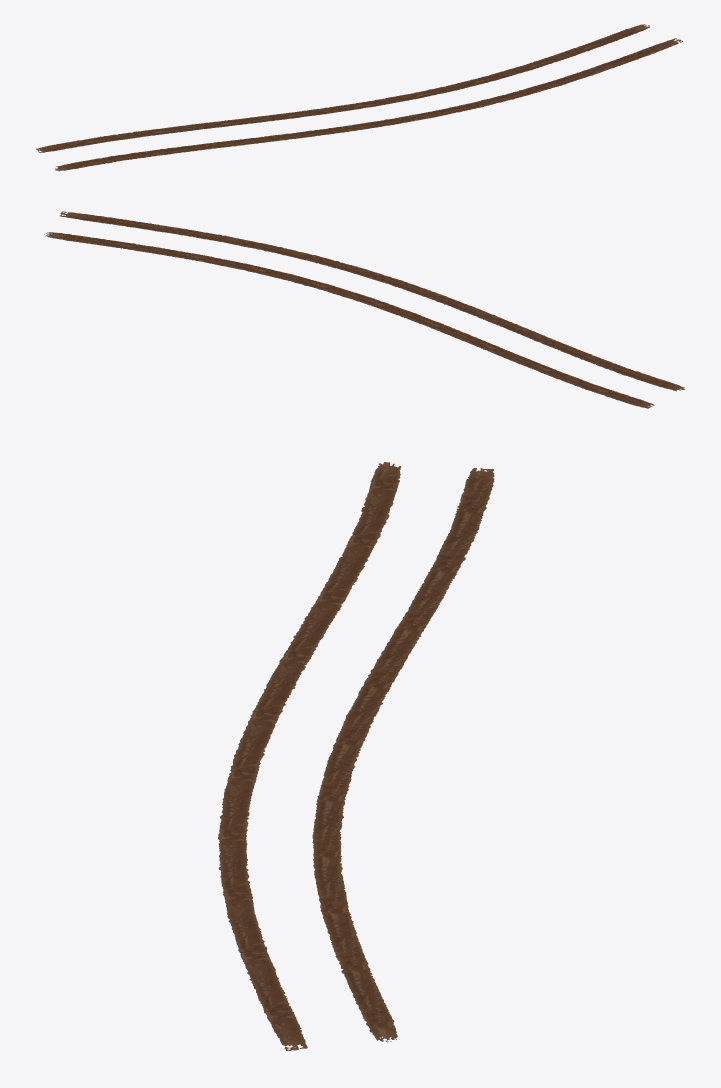
The model's file is Tracks.gltf.
3 renders of one model, top to bottom at view 1: azimuth 30°, elevation 25°; view 2: azimuth 150°, elevation 25°; view 3: azimuth 270°, elevation 25°, orthographic. The views are drawn at different scales.
Bounding box in the file's own units: 24.36 × 0 × 4.91.
Materials: 1 (1 with a texture image).
